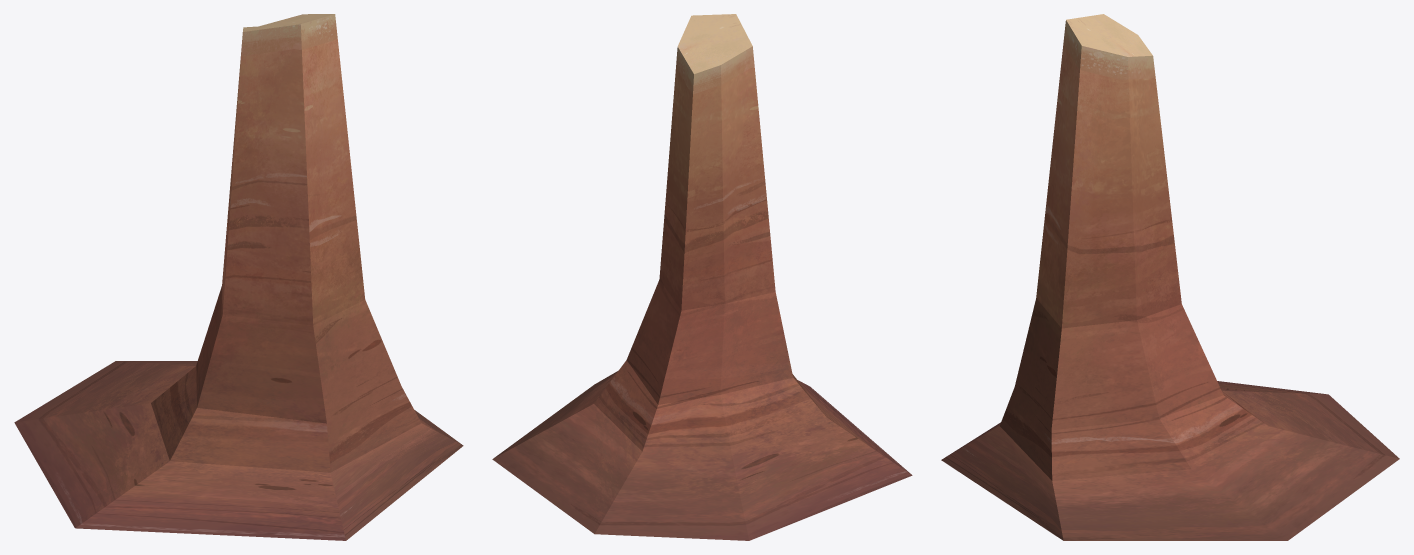
The model's file is spire_3.fbx.
The picture shows the model from 3 angles, left to right: view 1: azimuth 30°, elevation 25°; view 2: azimuth 150°, elevation 25°; view 3: azimuth 270°, elevation 25°; orthographic projection. The views are drawn at different scales.
Parts seen in each view (by area): view 1: spire 3; view 2: spire 3; view 3: spire 3.
Part boxes in pixels (<box>): spire 3: <box>14,14,463,540</box>; spire 3: <box>492,14,912,540</box>; spire 3: <box>941,14,1399,540</box>.
Size of the model in its own units: 180 by 213 by 197.
